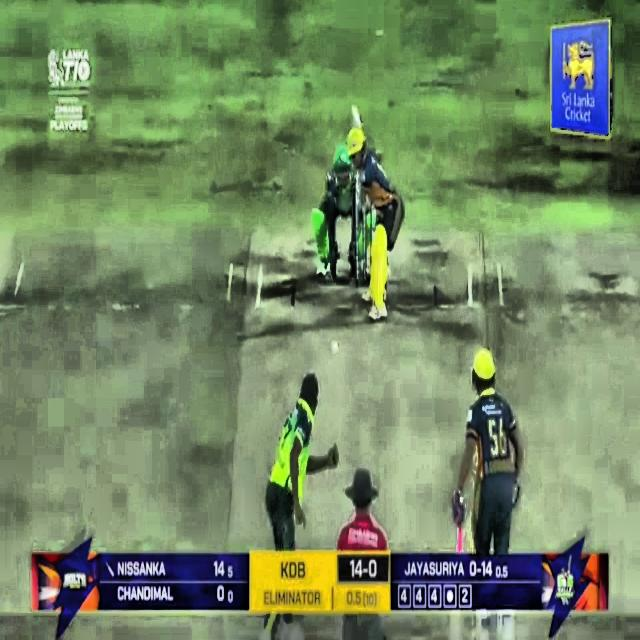Left-stump: (355, 221, 359, 285)
Middle-stump: (363, 214, 366, 284)
